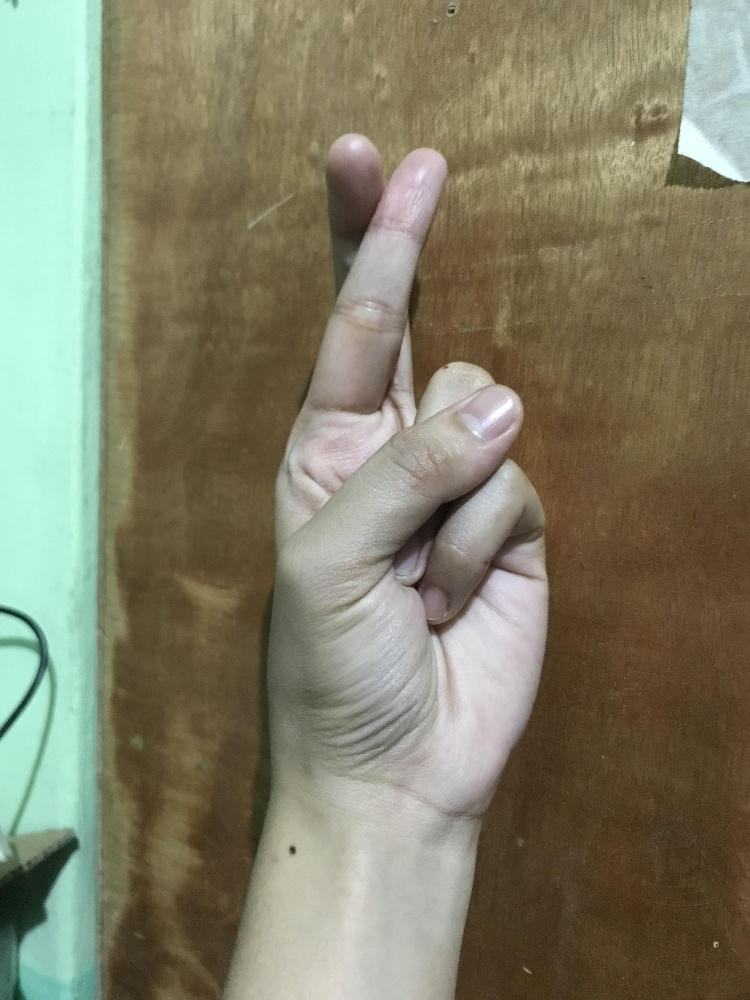r: (262, 128, 556, 813)
